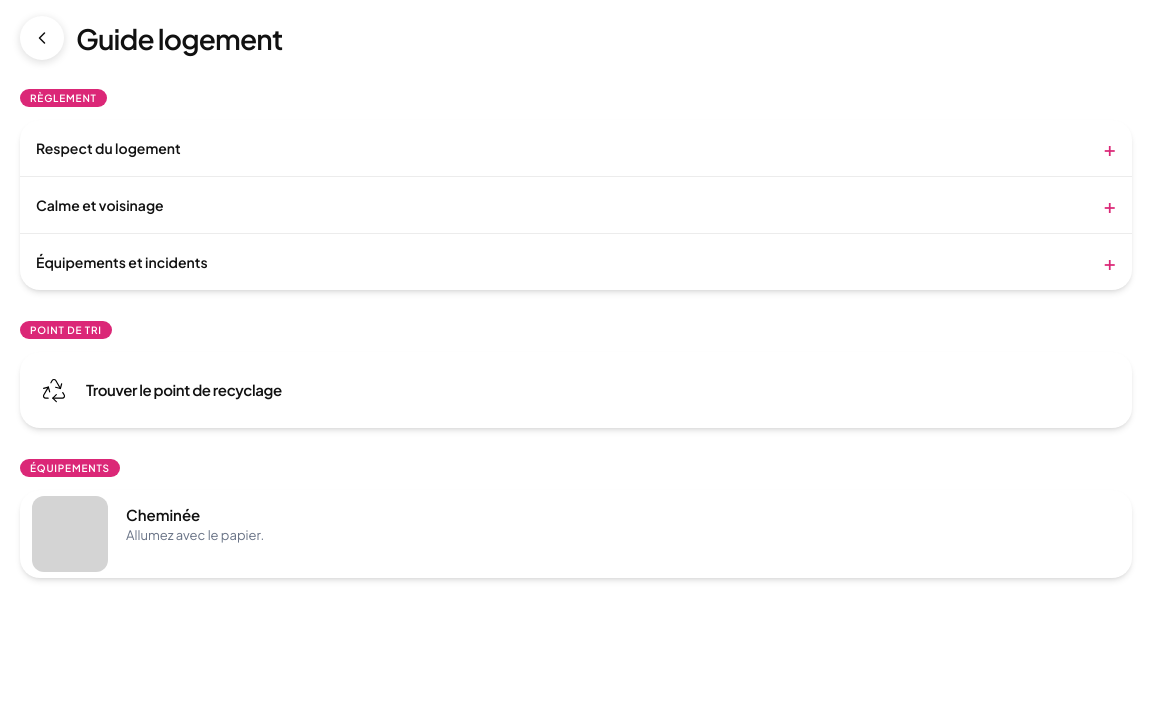
054 US-03/US-04 — departure and house guide › AC-04-01: lists equipment and shows rules as a single-open accordion
This screenshot has width=1152, height=720.
Expected: the heading "Guide logement" is shown, [76,20,282,56]
Expected: the heading "Équipements" is shown, [20,459,120,477]
Click the button "Respect du logement +": point(108, 148) [20,120,1132,176]
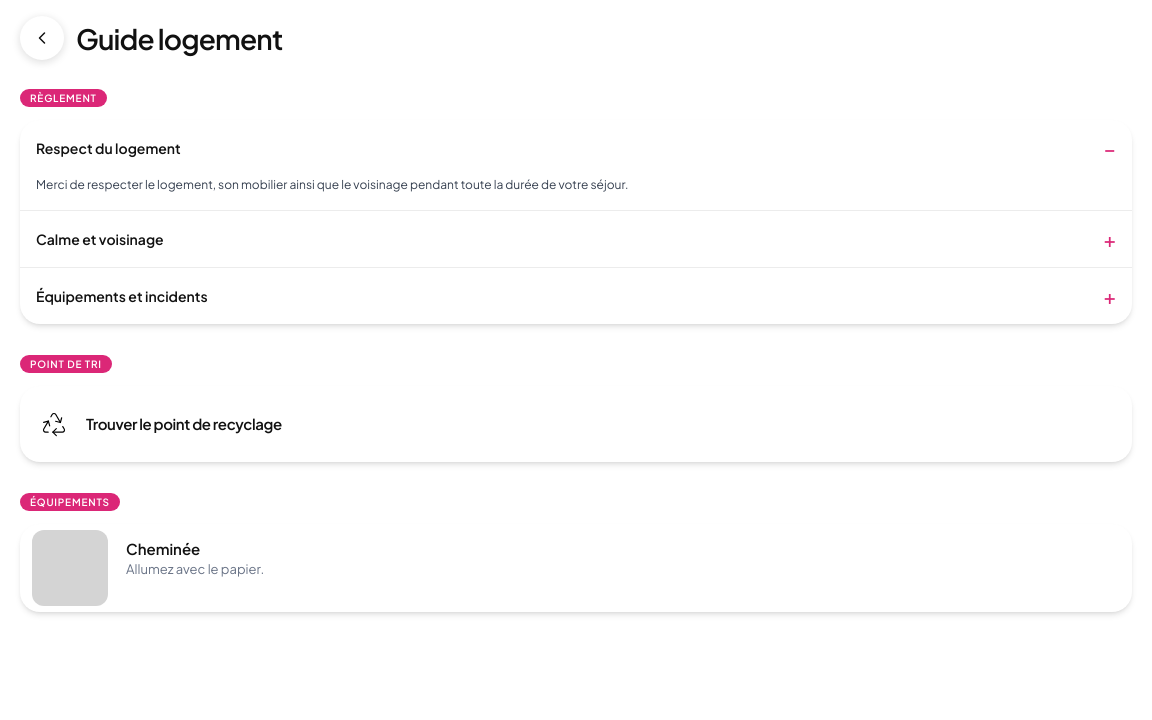
Result: the button "Respect du logement −" is expanded at [20,120,1132,176]
Click the button "Calme et voisinage +": point(100, 239) [20,211,1132,267]
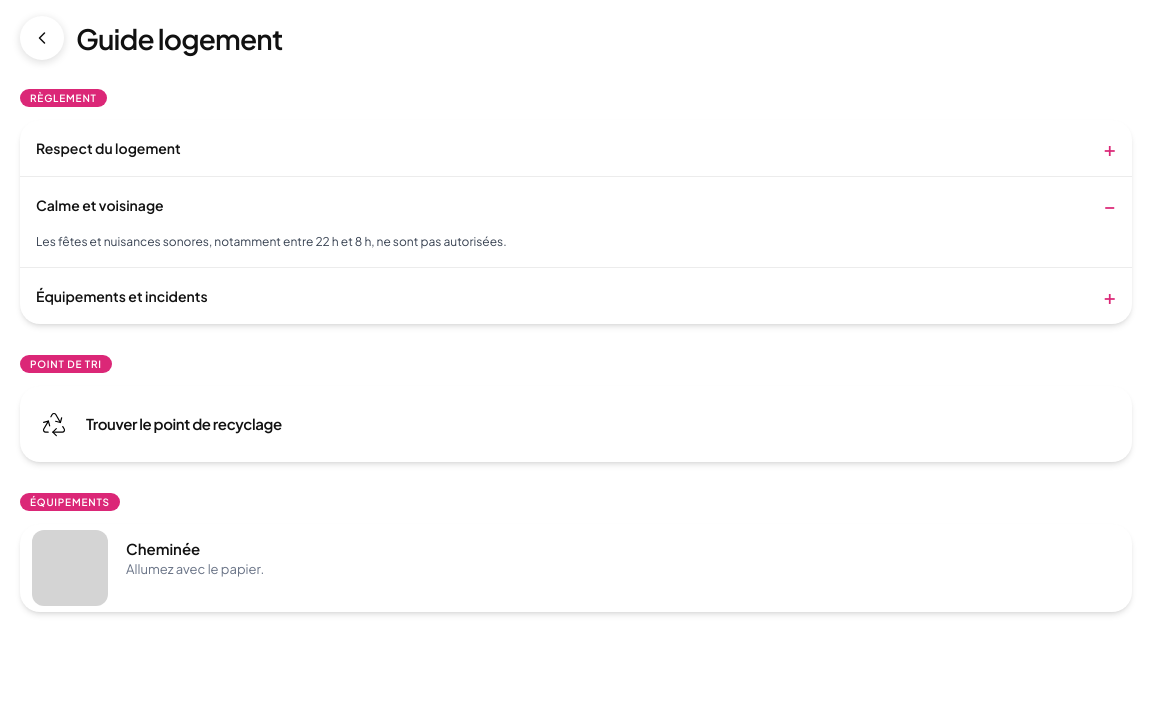
Expected: the text "Trouver le point de recyclage" is shown, [86,414,282,433]
Result: the button "Respect du logement +" is collapsed at [20,120,1132,176]
Result: the button "Calme et voisinage −" is expanded at [20,177,1132,233]
